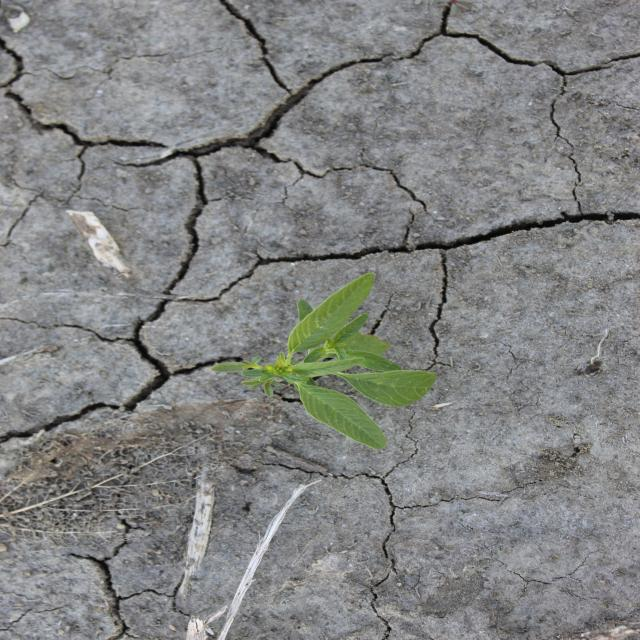Waterhemp: (208, 269, 442, 452)
